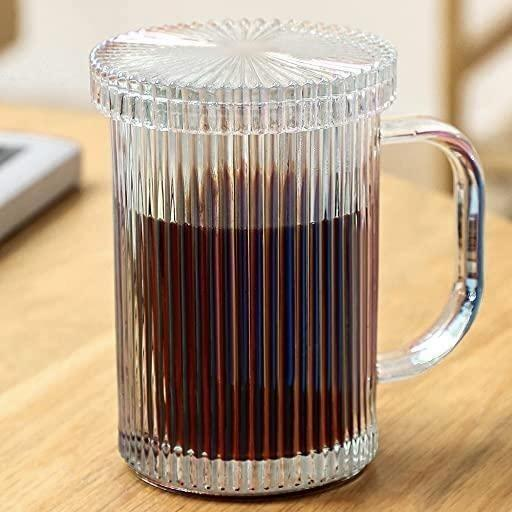glass-mug: (83, 9, 494, 507)
